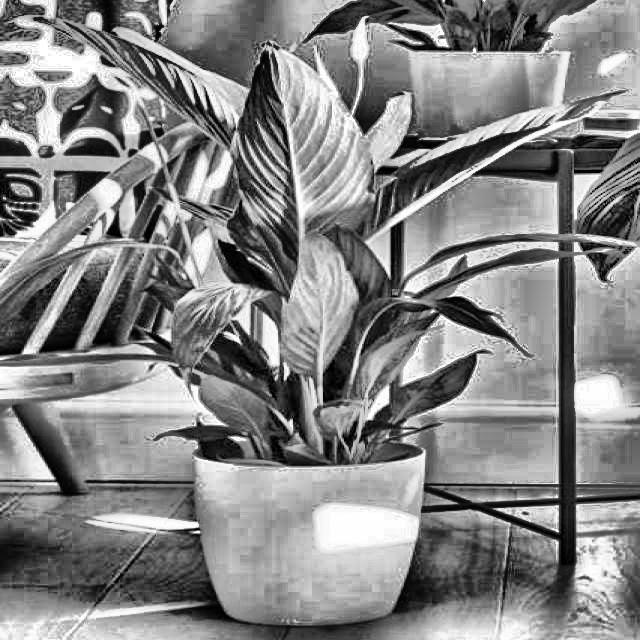plants: (0, 53, 538, 619), (0, 234, 206, 328)
